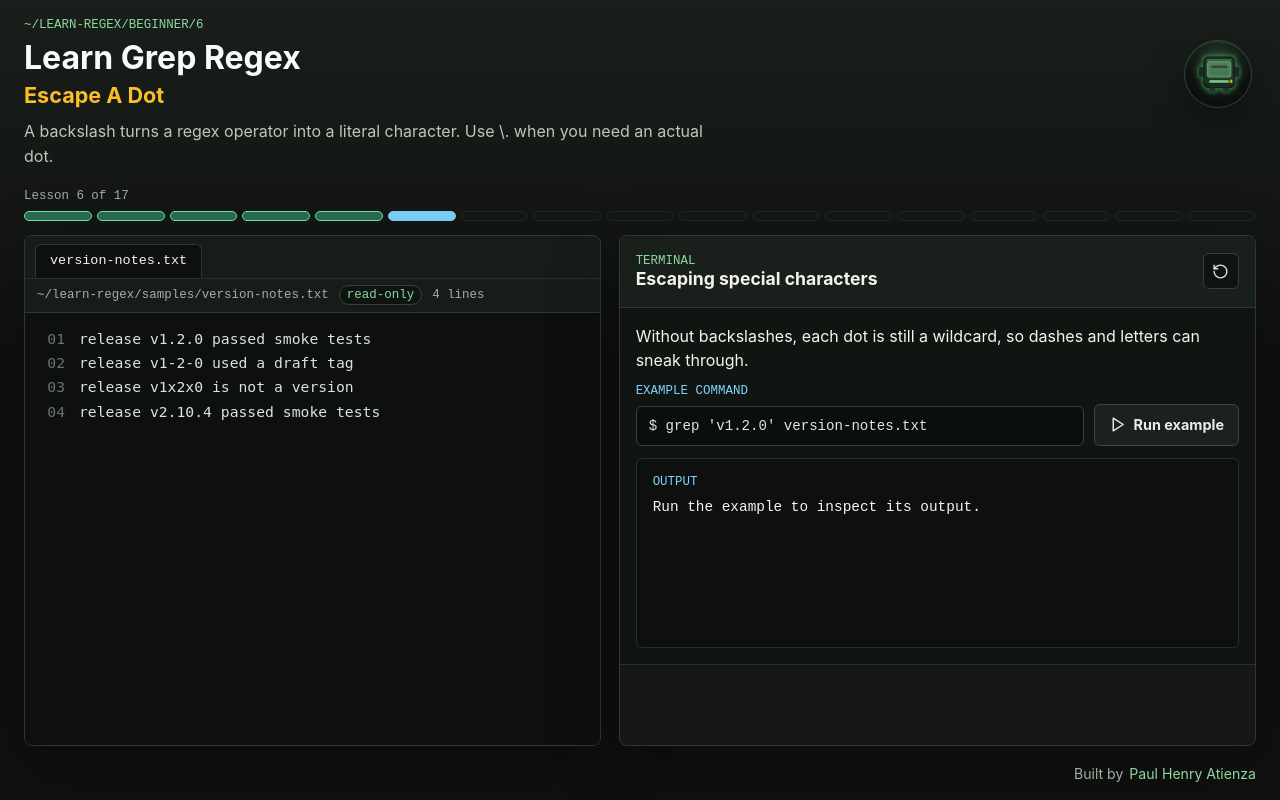
Test: App › targets the lab workspace when starting lesson 6 practice
The image size is (1280, 800).
Click the button "Run example".
click(1166, 425)  # box left=1094, top=404, right=1239, bottom=446
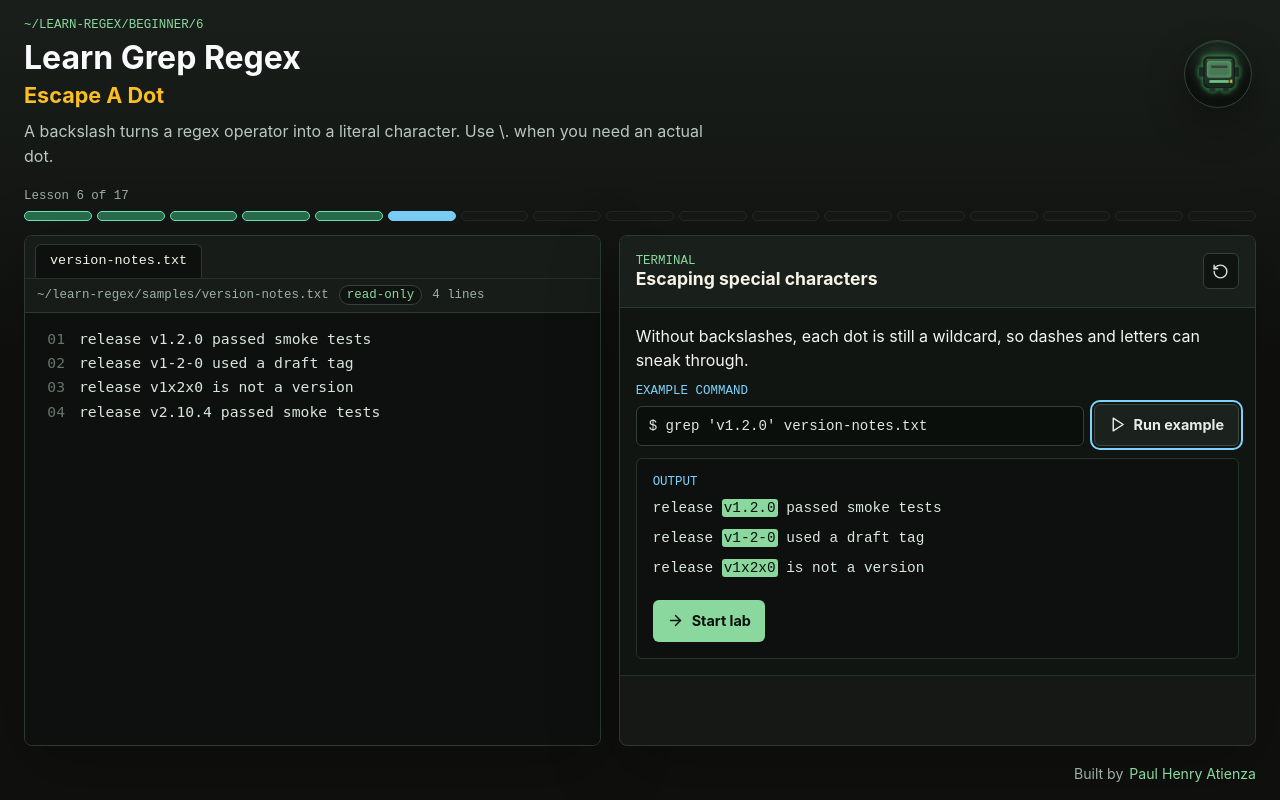
Click the button "Start lab".
click(709, 621)  # box left=653, top=600, right=765, bottom=642
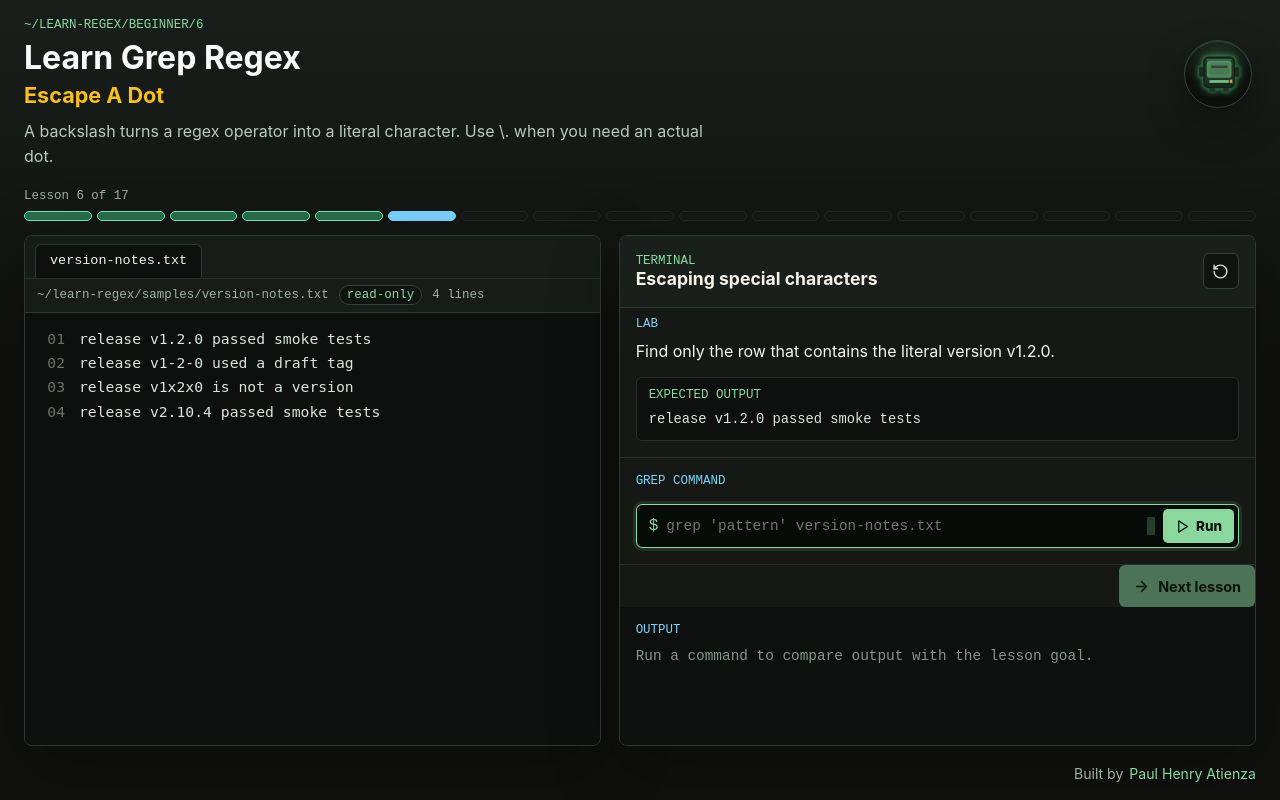
Now the text "Find only the row that contains the literal version v1.2.0." is shown, box left=636, top=341, right=1055, bottom=361
